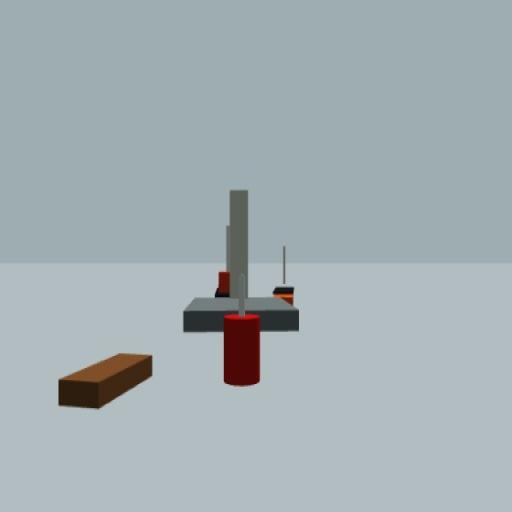debris_container: (58, 354, 152, 410)
floating_obstacle: (224, 276, 260, 388)
